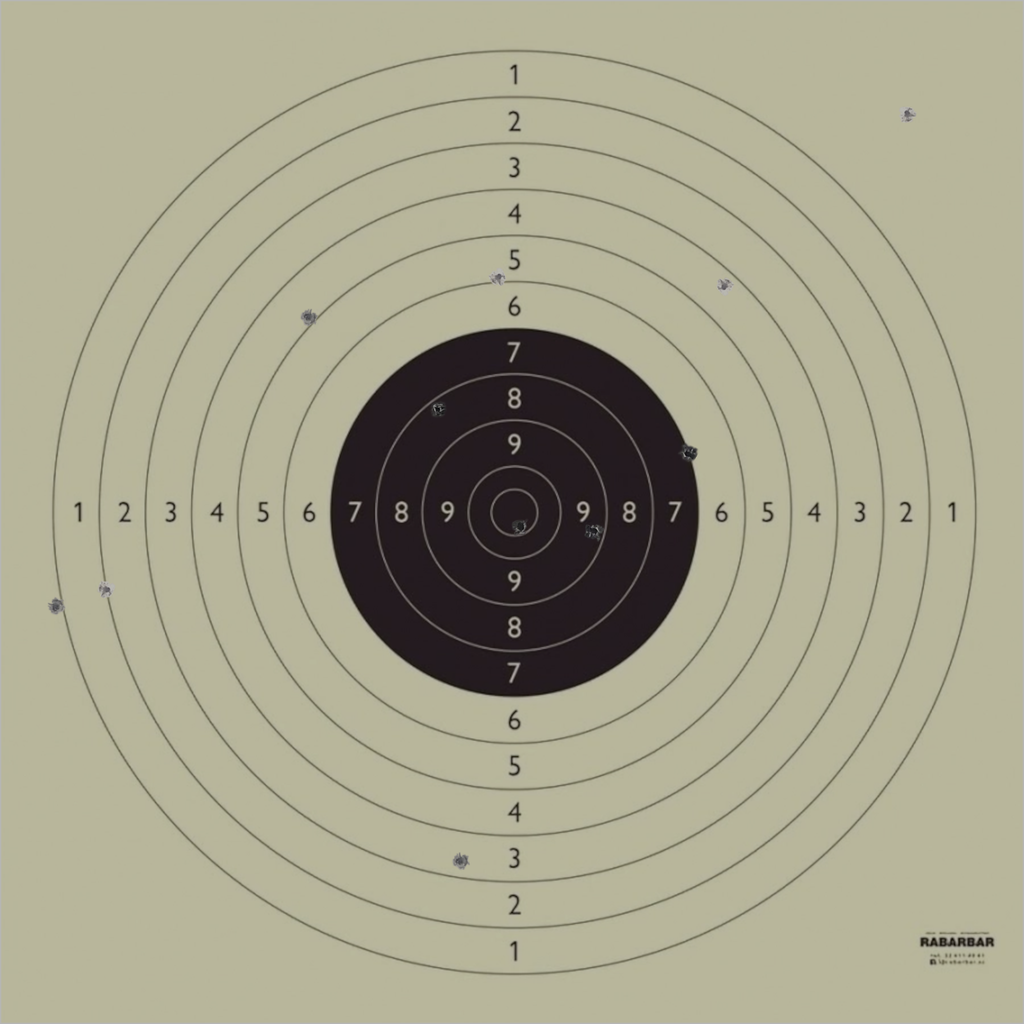0 punktow: (898, 105, 917, 123)
1 punkt: (47, 598, 65, 616)
10 punktow: (511, 518, 530, 536)
2 punkty: (97, 581, 116, 599)
3 punkty: (451, 852, 469, 870)
4 punkty: (715, 277, 734, 296)
5 punktow: (299, 308, 318, 326)
6 punktow: (489, 268, 508, 287)
7 punktow: (679, 444, 697, 463)
8 punktow: (428, 400, 447, 418)
9 punktow: (584, 522, 603, 540)
